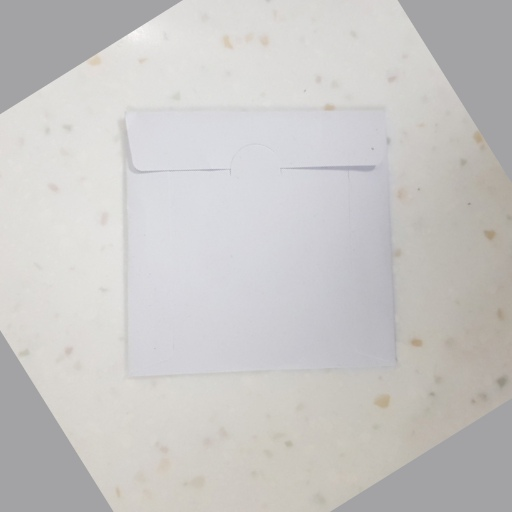Paper_2: (108, 98, 412, 383)
